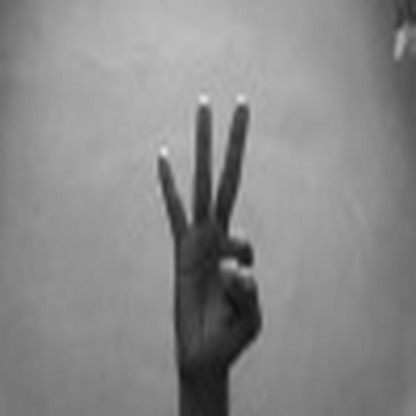f: (140, 90, 276, 382)
